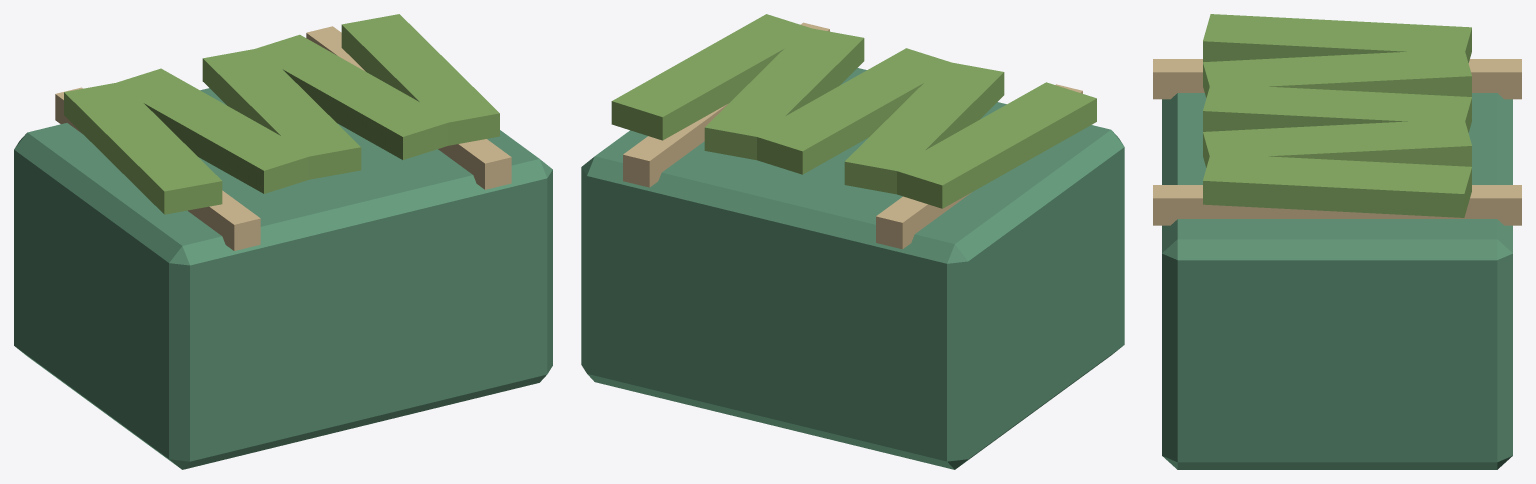
Rendered from biomass.glb.
3 renders of one model, left to right at view 1: azimuth 30°, elevation 25°; view 2: azimuth 150°, elevation 25°; view 3: azimuth 270°, elevation 25°, orthographic. The views are drawn at different scales.
Parts seen in each view (by area): view 1: biomass / Industrial green, biomass / Biomass foliage, biomass / Sand and paper; view 2: biomass / Industrial green, biomass / Biomass foliage, biomass / Sand and paper; view 3: biomass / Industrial green, biomass / Biomass foliage, biomass / Sand and paper.
Boxes of the visible parts, x1=… form: biomass / Industrial green: x1=14, y1=88, x2=552, y2=469; biomass / Biomass foliage: x1=64, y1=14, x2=499, y2=214; biomass / Sand and paper: x1=55, y1=26, x2=511, y2=250; biomass / Industrial green: x1=581, y1=68, x2=1124, y2=469; biomass / Biomass foliage: x1=611, y1=14, x2=1096, y2=208; biomass / Sand and paper: x1=623, y1=22, x2=1082, y2=249; biomass / Industrial green: x1=1162, y1=93, x2=1512, y2=469; biomass / Biomass foliage: x1=1203, y1=14, x2=1471, y2=217; biomass / Sand and paper: x1=1153, y1=59, x2=1521, y2=225.
Bounding box in the file's own units: 0.26 × 0.173 × 0.21.
